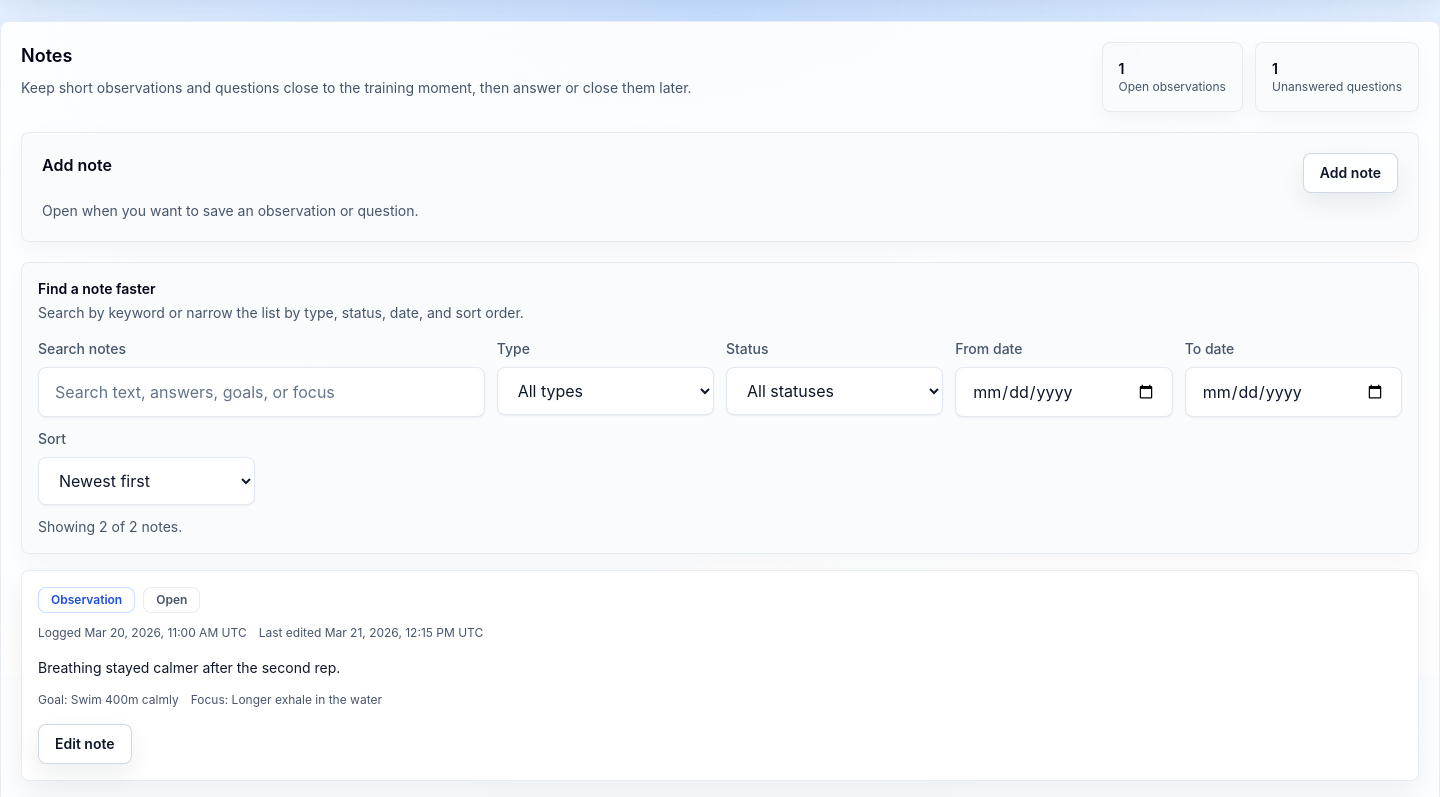
Scenario: TrainingContextHub › shows note timestamps and lets the user filter the notes list
This screenshot has width=1440, height=797.
(page scrolled)
Expected: the element with test id "training-note-card-note-2" shows "Logged Mar 20, 2026, 11:00 AM UTC", [21,570,1419,781]
Expected: the element with test id "training-note-card-note-2" shows "Last edited Mar 21, 2026, 12:15 PM UTC", [21,570,1419,781]
Type "calmer" into the search field with test id "training-note-search-input" at (261,392), box [38,367,485,417]
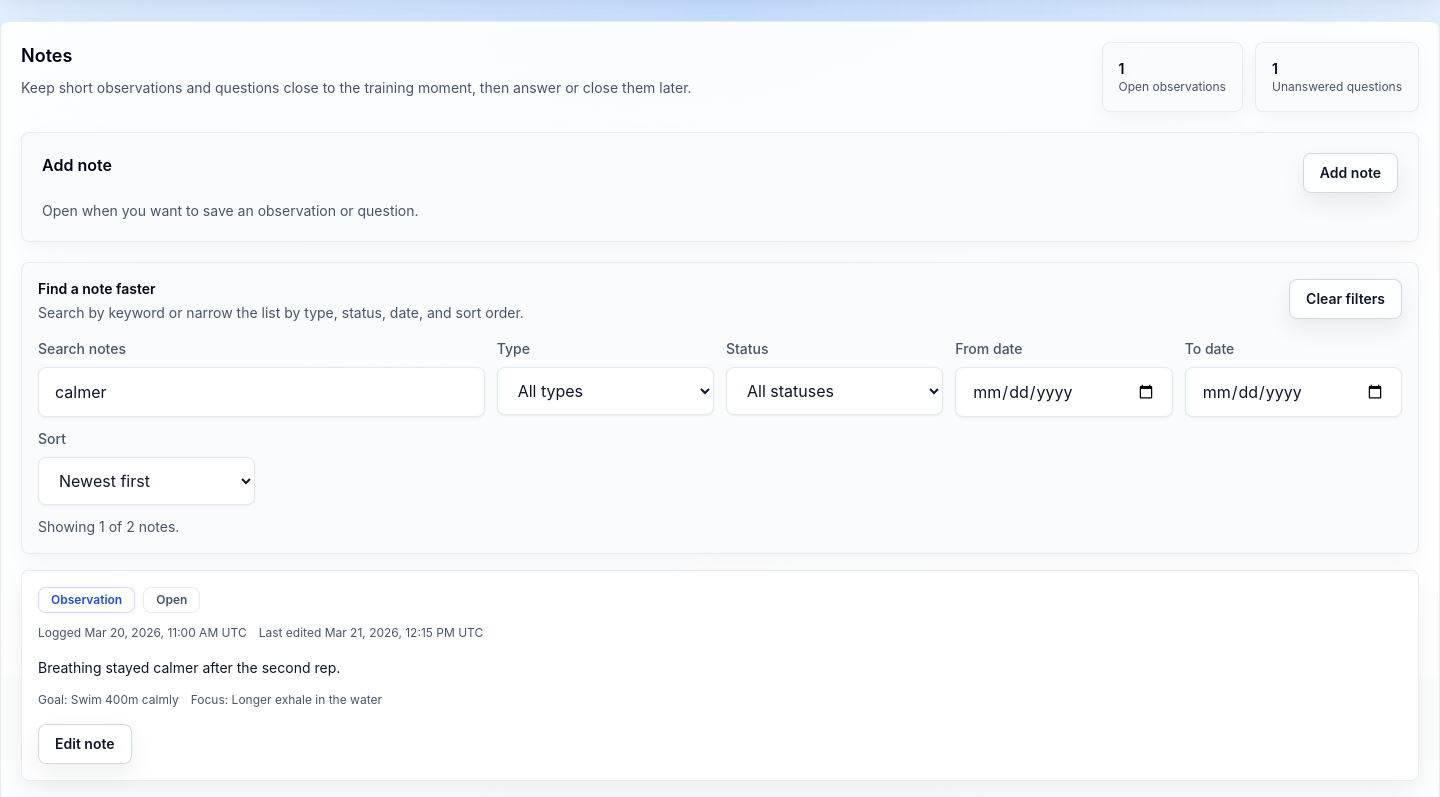
Expected: the element with test id "training-note-card-note-2" is shown, [21,570,1419,781]
Expected: the text "Showing 1 of 2 notes." is shown, [38,518,179,535]
Clear the search field with test id "training-note-search-input" at (261,392), box [38,367,485,417]
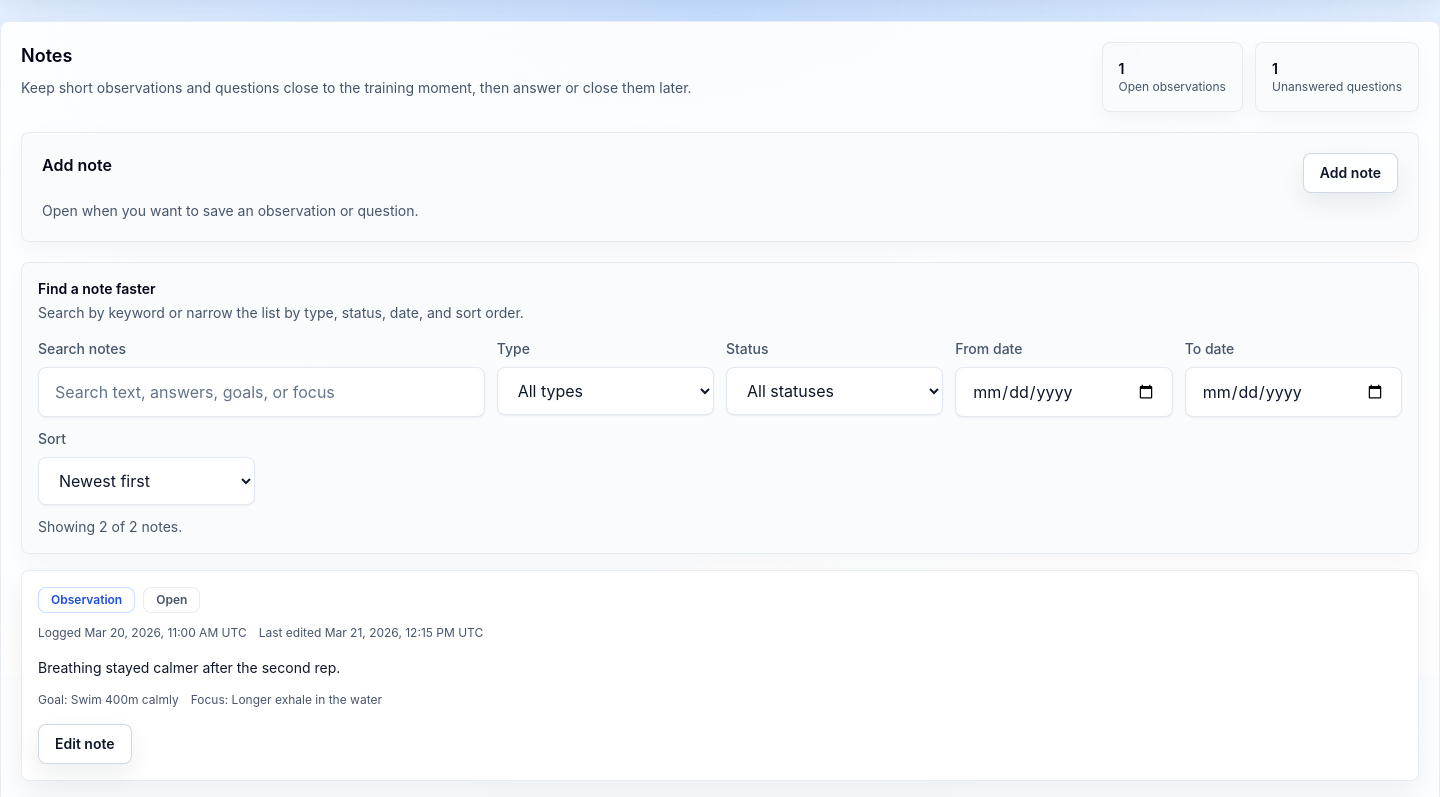
Select "Questions" in the dropdown with test id "training-note-type-filter" at (605,391), box [497,367,714,415]
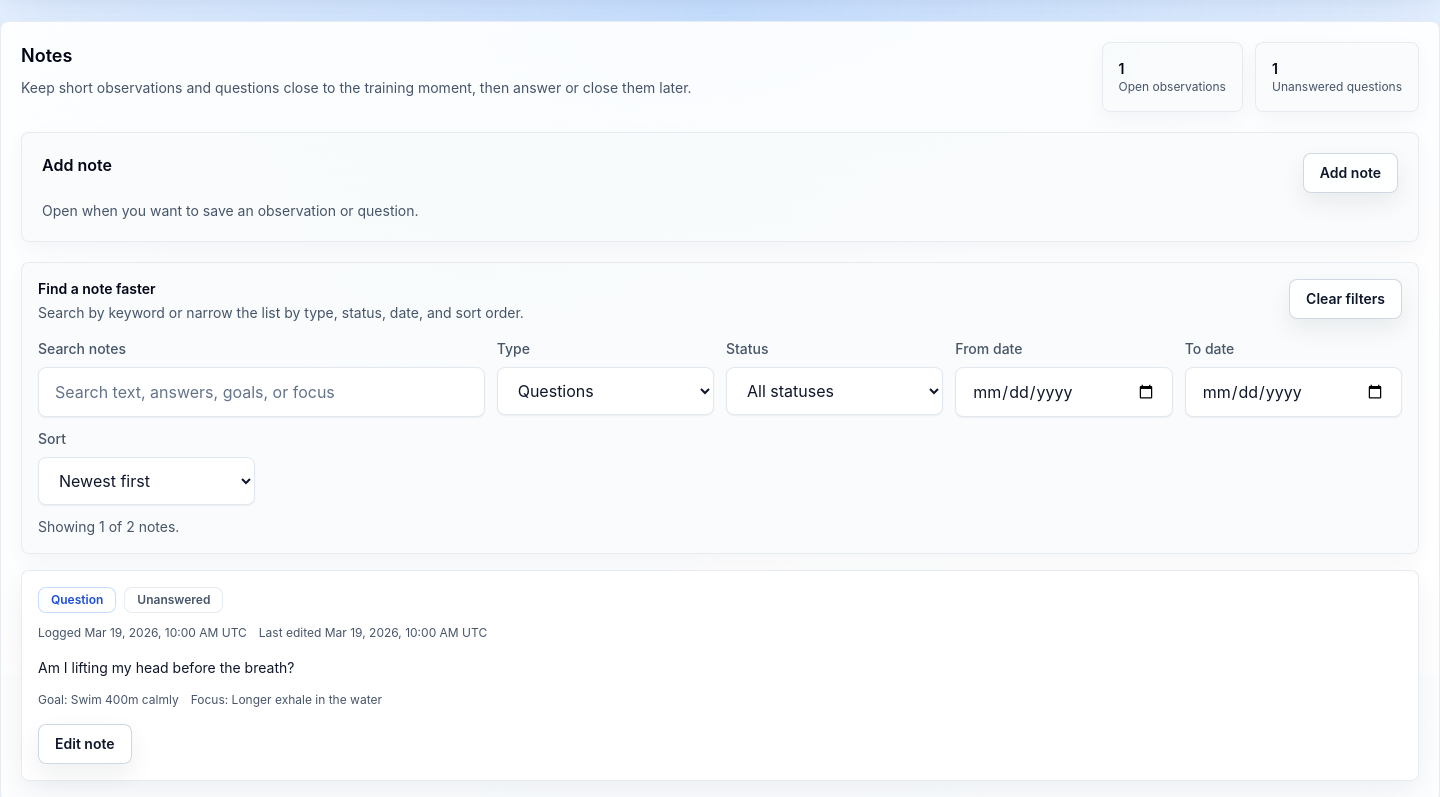
Type "2026-03-20" into the date field with test id "training-note-from-date-filter" at (1064,392), box [955,367,1173,417]
(page scrolled)
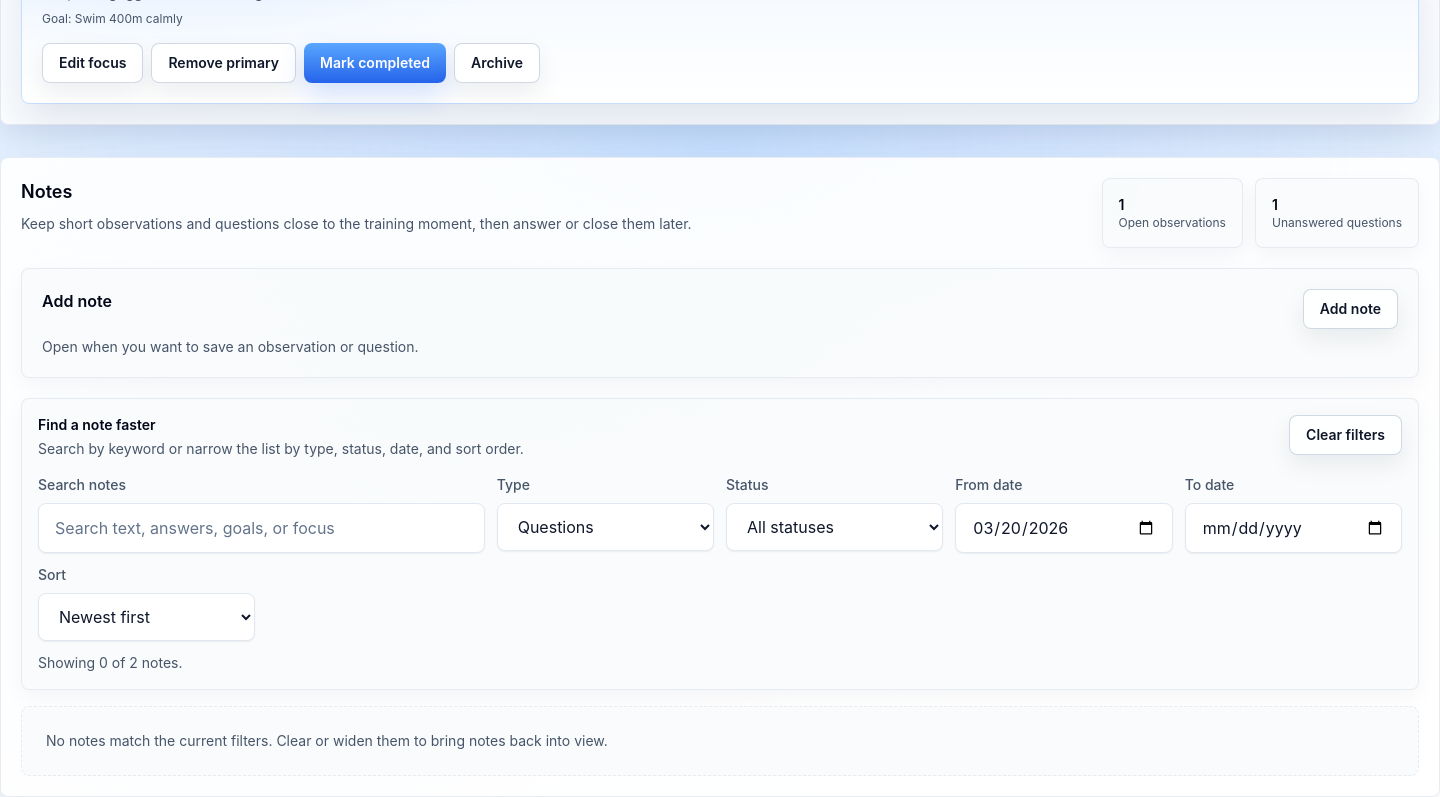
Expected: the element with test id "training-note-card-note-1" is gone
Expected: the element with test id "training-notes-no-results-state" shows "No notes match the current filters", [46,732,608,749]
Click the button "Clear filters" at (1346,435), box [1289,415,1402,455]
(page scrolled)
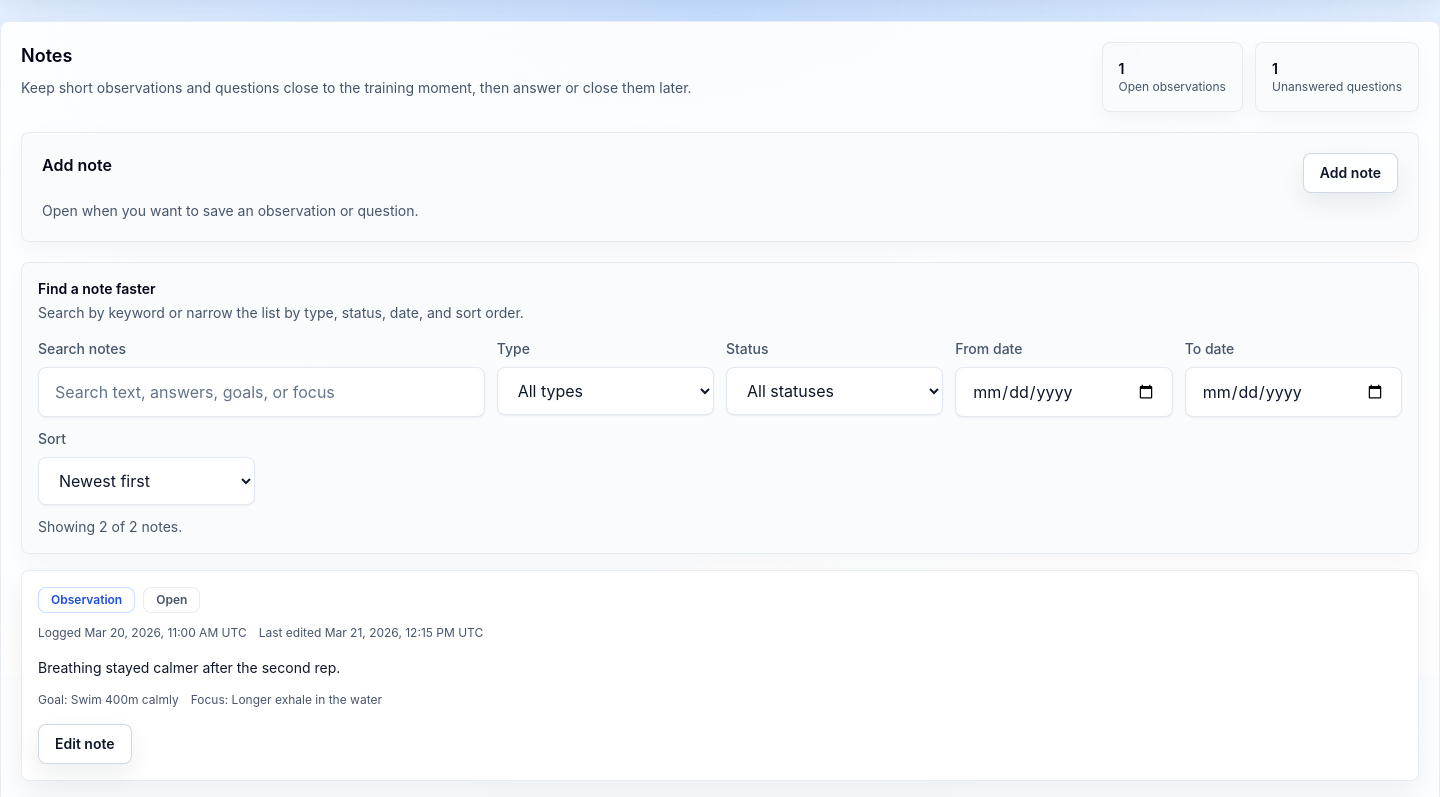
Expected: the element with test id "training-note-card-note-2" is shown, [21,570,1419,781]
